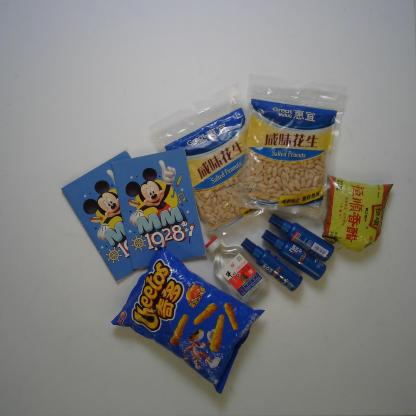Alcohol: (202, 233, 267, 303)
Dried Fruit: (149, 89, 276, 236), (236, 79, 346, 223)
Personal Hygiene: (240, 236, 303, 292), (261, 229, 325, 282), (267, 212, 334, 261)
Puffed Food: (112, 244, 264, 396)
Seasoner: (320, 172, 395, 254)
Stationery: (61, 151, 163, 282), (110, 146, 206, 270)
